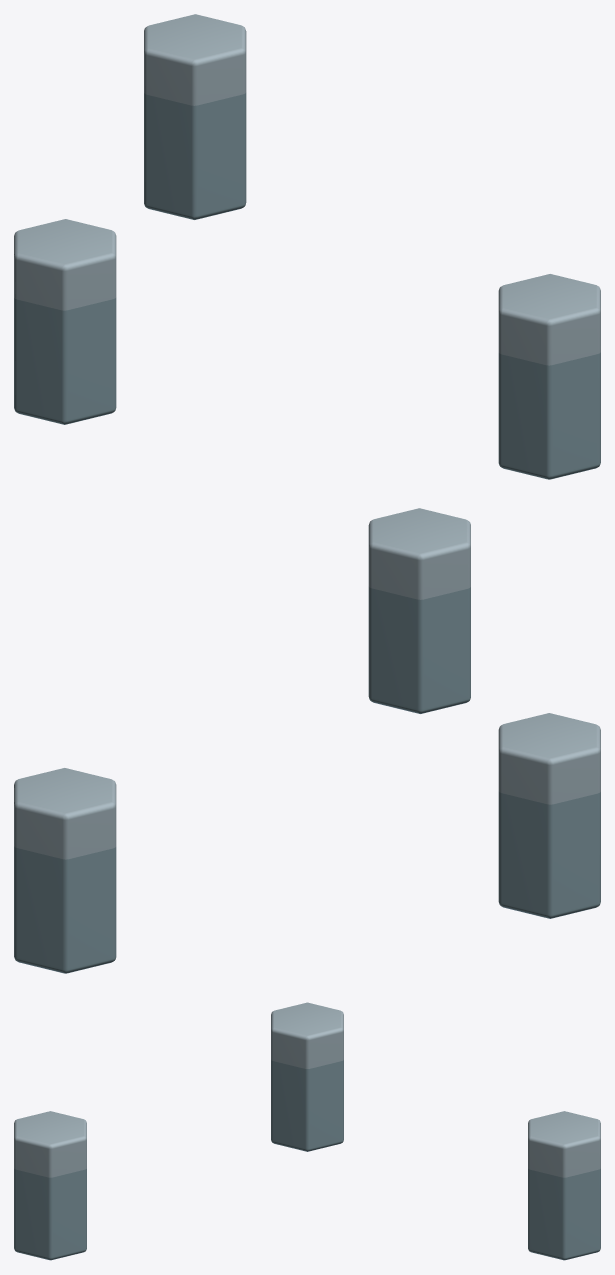
The model's file is Props.fbx.
3 renders of one model, top to bottom at view 1: azimuth 30°, elevation 25°; view 2: azimuth 150°, elevation 25°; view 3: azimuth 270°, elevation 25°, orthographic. The views are drawn at different scales.
Parts seen in each view (by area): view 1: 六面体 (×3); view 2: 六面体 (×3); view 3: 六面体 (×3).
Part boxes in pixels (<box>): 六面体 (×3): <box>14,14,600,479</box>; 六面体 (×3): <box>14,508,600,973</box>; 六面体 (×3): <box>14,1002,600,1260</box>.
Bounding box in the file's own units: 13.28 × 5 × 22.85.
1 material, 1 textured.
